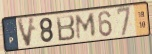6: (97, 10, 113, 38)
7: (116, 5, 133, 38)
8: (39, 17, 55, 44)
B: (55, 14, 76, 43)
M: (75, 12, 97, 40)
V: (15, 16, 37, 49)
